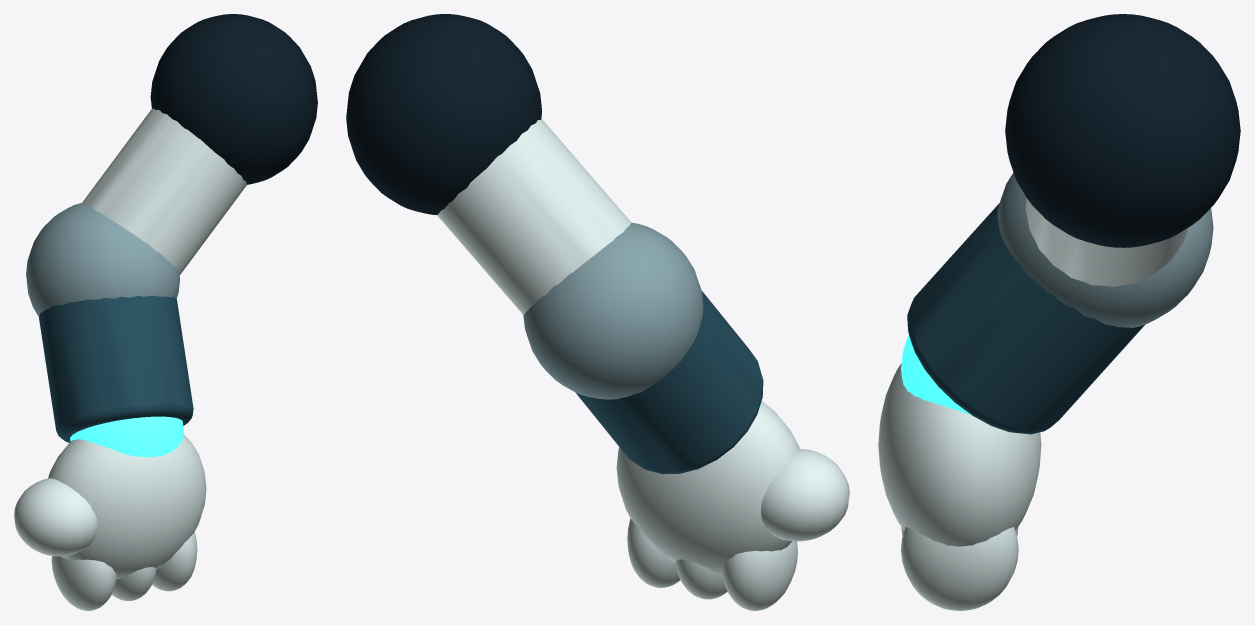
File: SM_PATCH_Arm_L.fbx
3 renders of one model, left to right at view 1: azimuth 30°, elevation 25°; view 2: azimuth 150°, elevation 25°; view 3: azimuth 270°, elevation 25°, orthographic. The views are drawn at different scales.
Visible parts, largest first — view 1: SM_PATCH_Arm_L; view 2: SM_PATCH_Arm_L; view 3: SM_PATCH_Arm_L.
Part boxes in pixels (x1,y1,x2,y2): SM_PATCH_Arm_L: [14, 14, 317, 610]; SM_PATCH_Arm_L: [346, 14, 849, 610]; SM_PATCH_Arm_L: [878, 14, 1240, 610].
Size of the model in its own units: 60.8 by 40 by 81.7.
